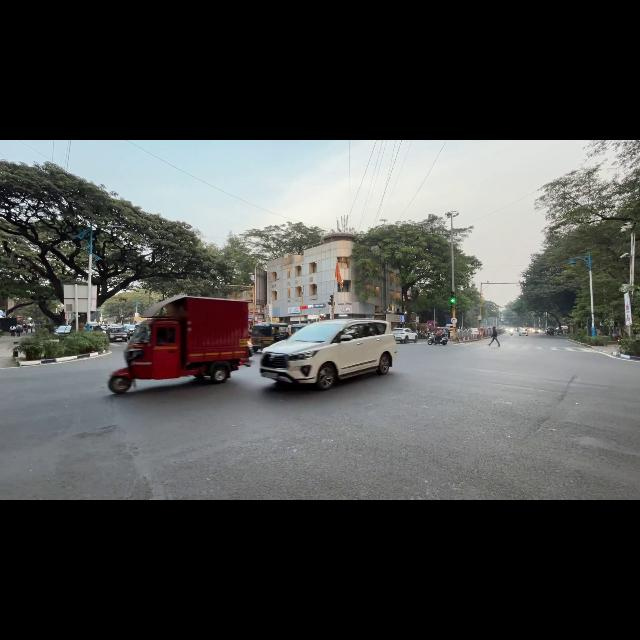car: (260, 319, 397, 389), (393, 328, 417, 342), (106, 326, 128, 341), (54, 326, 71, 337), (124, 324, 136, 338), (518, 328, 528, 335), (546, 327, 554, 335), (470, 328, 479, 335), (533, 328, 540, 333)
motorcycle: (427, 334, 447, 345), (510, 330, 513, 335)
truck: (108, 296, 249, 393)
